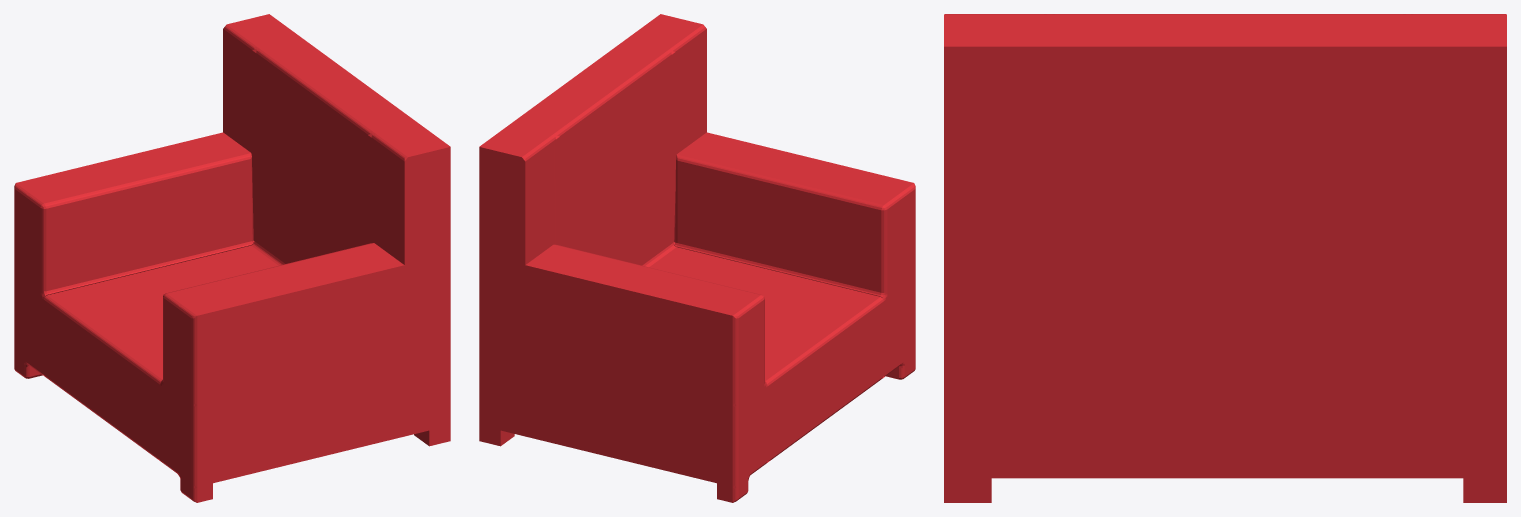
File: 12sillon.glb
3 renders of one model, left to right at view 1: azimuth 30°, elevation 25°; view 2: azimuth 150°, elevation 25°; view 3: azimuth 270°, elevation 25°, orthographic. The views are drawn at different scales.
Parts seen in each view (by area): view 1: Plane; view 2: Plane; view 3: Plane.
Part boxes in pixels (x1,y1,x2,y2): Plane: (14, 14, 450, 502); Plane: (479, 14, 915, 502); Plane: (944, 14, 1506, 502).
Size of the model in its own units: 2.14 by 2.33 by 2.6.
